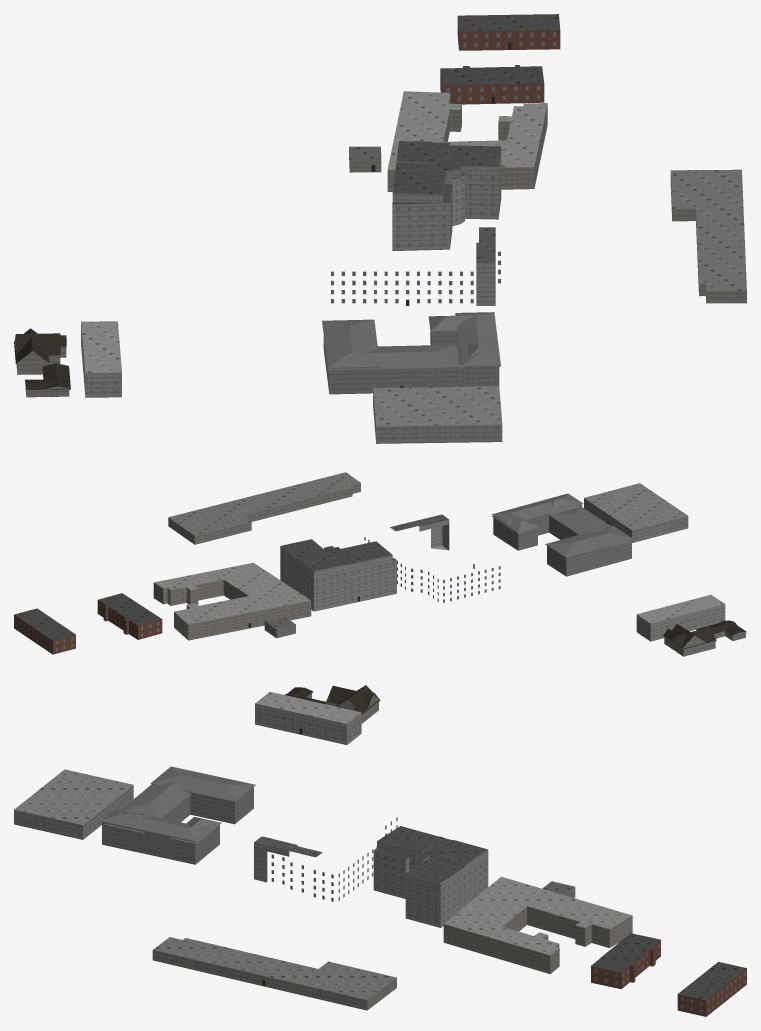
3 views of the same model, one above another, from view 1: azimuth 30°, elevation 25°; view 2: azimuth 150°, elevation 25°; view 3: azimuth 270°, elevation 25° (orthographic). The views are drawn at different scales.
Visible parts, largest first — view 1: opaque (×11), glass; view 2: opaque (×11), glass; view 3: opaque (×11), glass.
Part boxes in pixels (bbox=[...]): opaque (×11): bbox=[14, 14, 746, 443]; glass: bbox=[22, 26, 741, 440]; opaque (×11): bbox=[14, 472, 746, 656]; glass: bbox=[15, 487, 740, 653]; opaque (×11): bbox=[14, 685, 746, 1016]; glass: bbox=[17, 696, 745, 1012].
Bounding box in the file's own units: 267 × 18.33 × 256.
22 materials, 21 textured.
